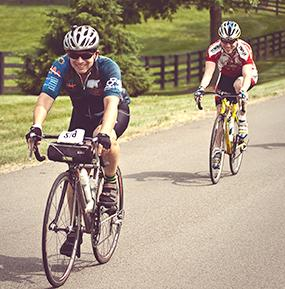With Helmet: (63, 23, 106, 72), (219, 20, 243, 54)
